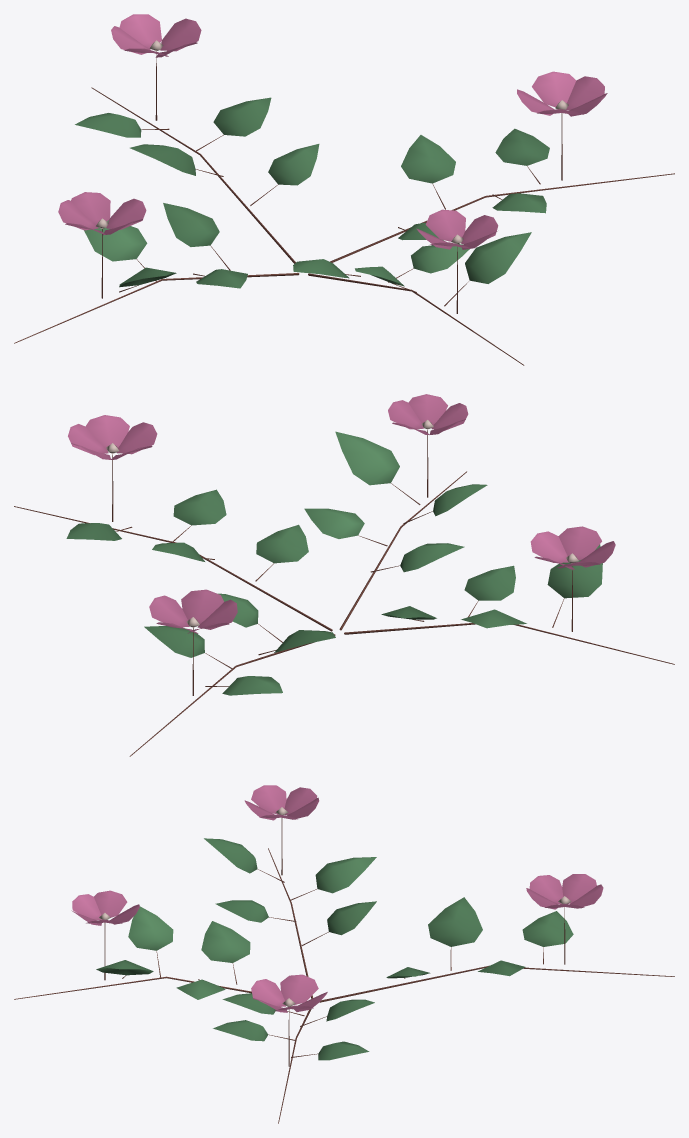
File: beach_morning_glory.glb
3 renders of one model, top to bottom at view 1: azimuth 30°, elevation 25°; view 2: azimuth 150°, elevation 25°; view 3: azimuth 270°, elevation 25°, orthographic. The views are drawn at different scales.
Parts seen in each view (by area): view 1: beach_morning_glory; view 2: beach_morning_glory; view 3: beach_morning_glory.
Part boxes in pixels (<box>): beach_morning_glory: <box>14,14,674,365</box>; beach_morning_glory: <box>14,394,674,756</box>; beach_morning_glory: <box>14,785,674,1123</box>.
Bounding box in the file's own units: 1.15 × 0.2225 × 1.16.
